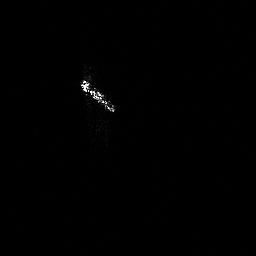ship: (80, 79, 115, 113)
